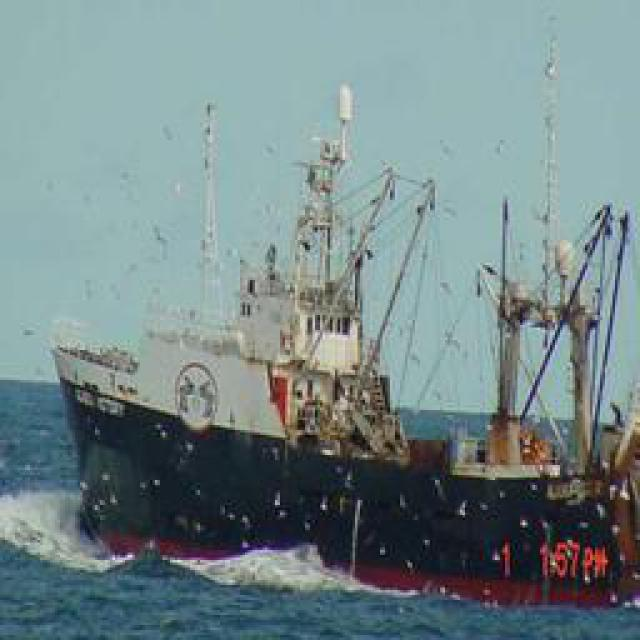Ship: (56, 55, 621, 595)
